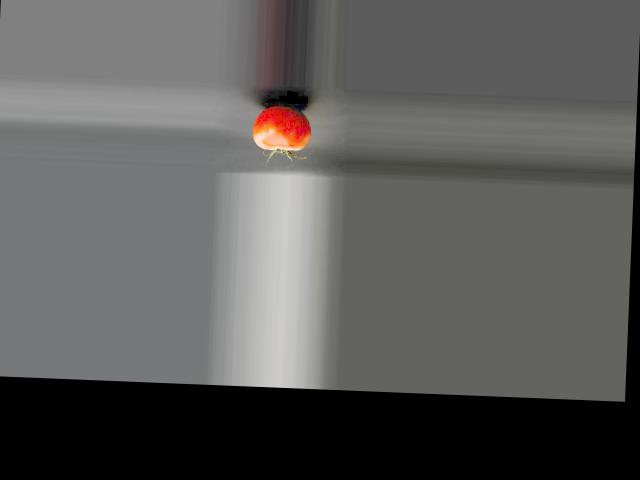tomato: (251, 105, 311, 151)
